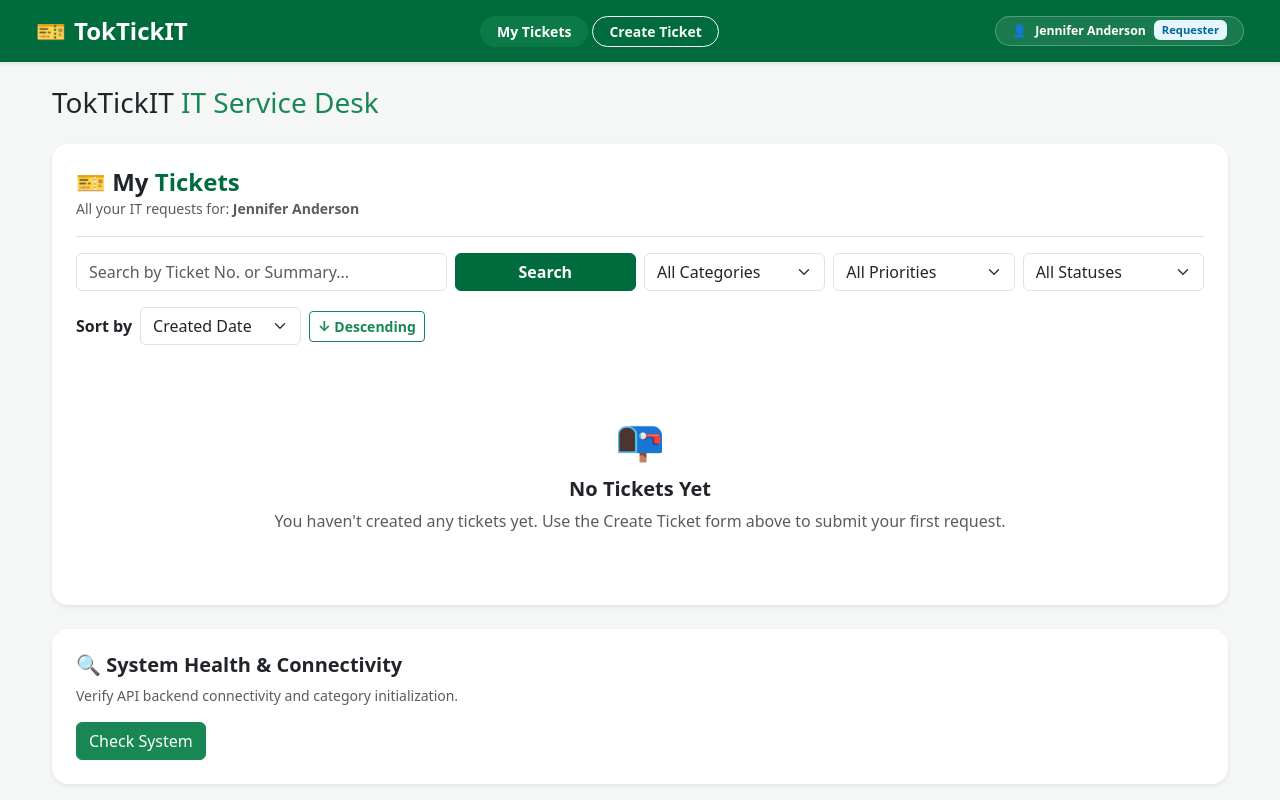
Test case: Auth-03: Header, Navigation & Logout › Auth-03f: logout clears token and returns to login screen
Check: the text with test id "header-user-name" is shown, box [1035,22,1146,40]
Click the button with test id "header-user-menu".
click(1120, 31)  # box [995,16,1244,46]
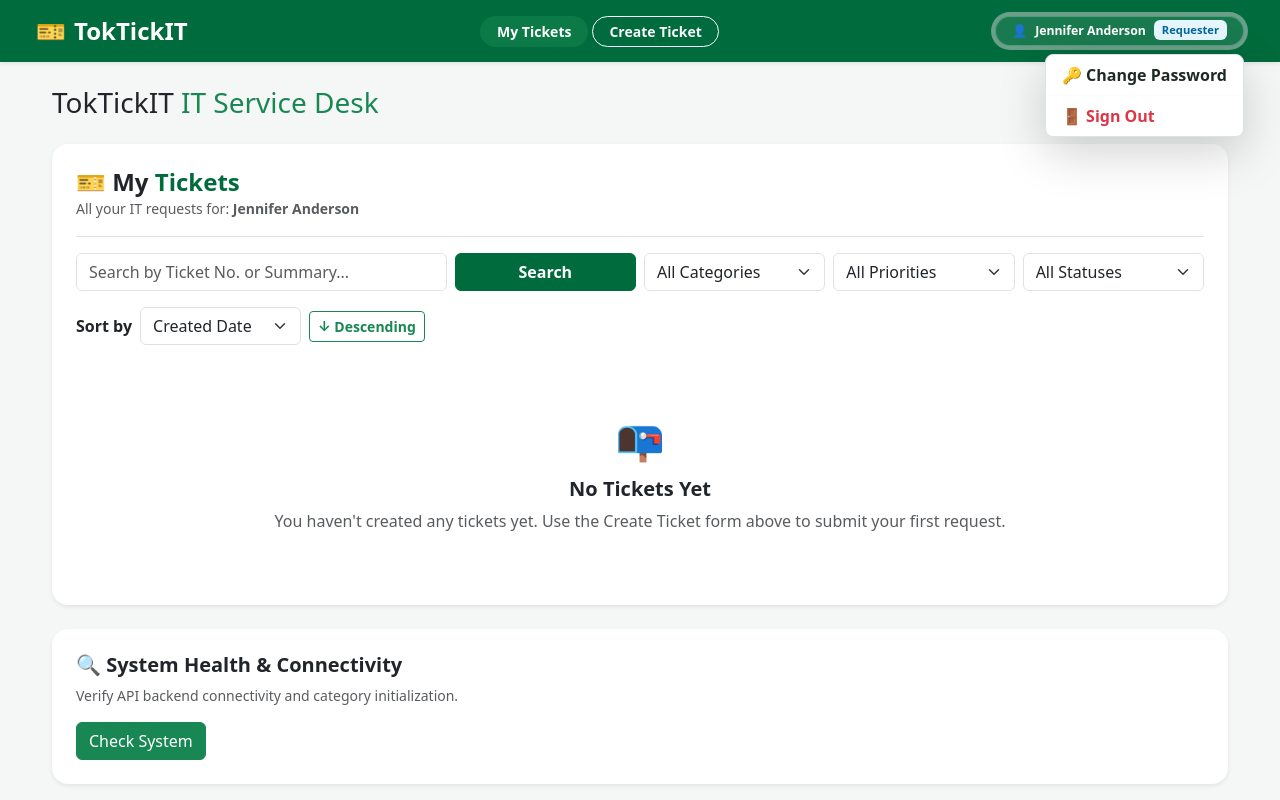
Click the button with test id "header-logout".
click(1144, 116)  # box [1046,96,1243,136]
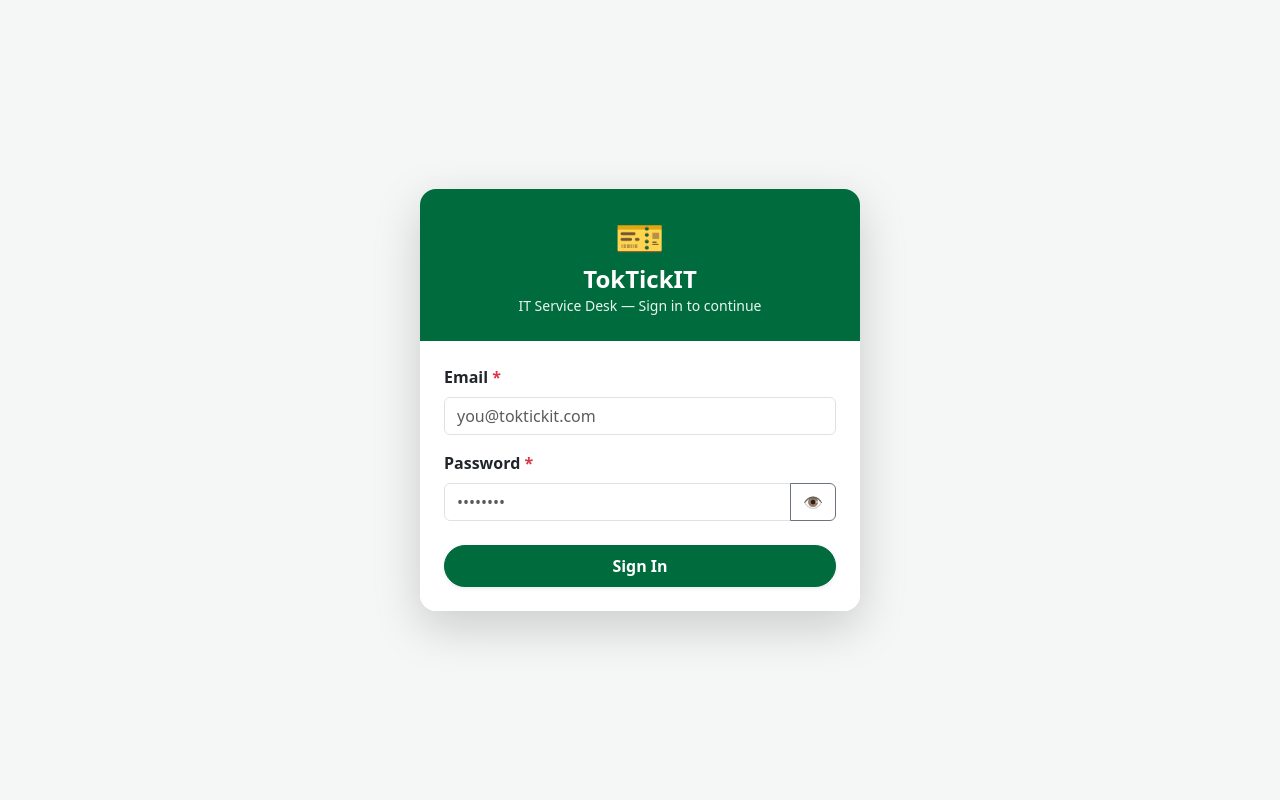
Check: the element with test id "login-card" is shown, box [420,189,860,611]
